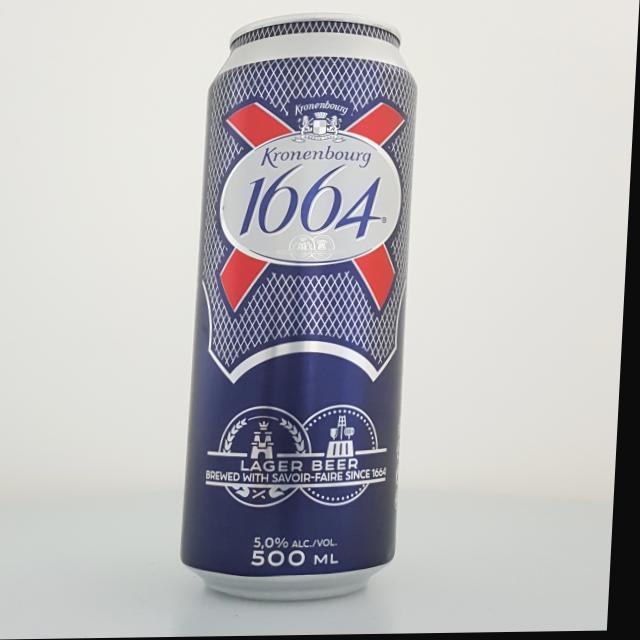beer-can: (184, 12, 423, 602)
